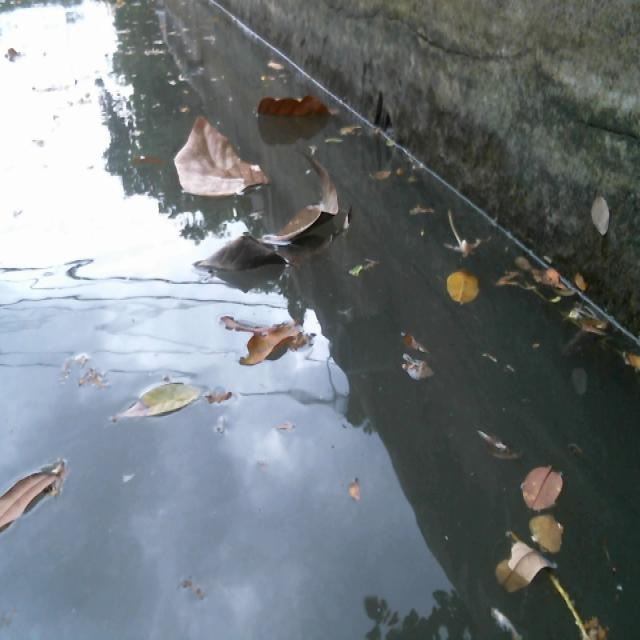Big-leaf: (190, 152, 367, 290), (167, 113, 275, 207), (211, 309, 348, 373), (261, 83, 341, 128)
Small-leaf: (0, 451, 83, 535), (111, 369, 207, 428), (392, 310, 445, 403), (492, 543, 558, 597), (442, 256, 482, 312), (522, 458, 564, 510), (531, 514, 568, 568)
